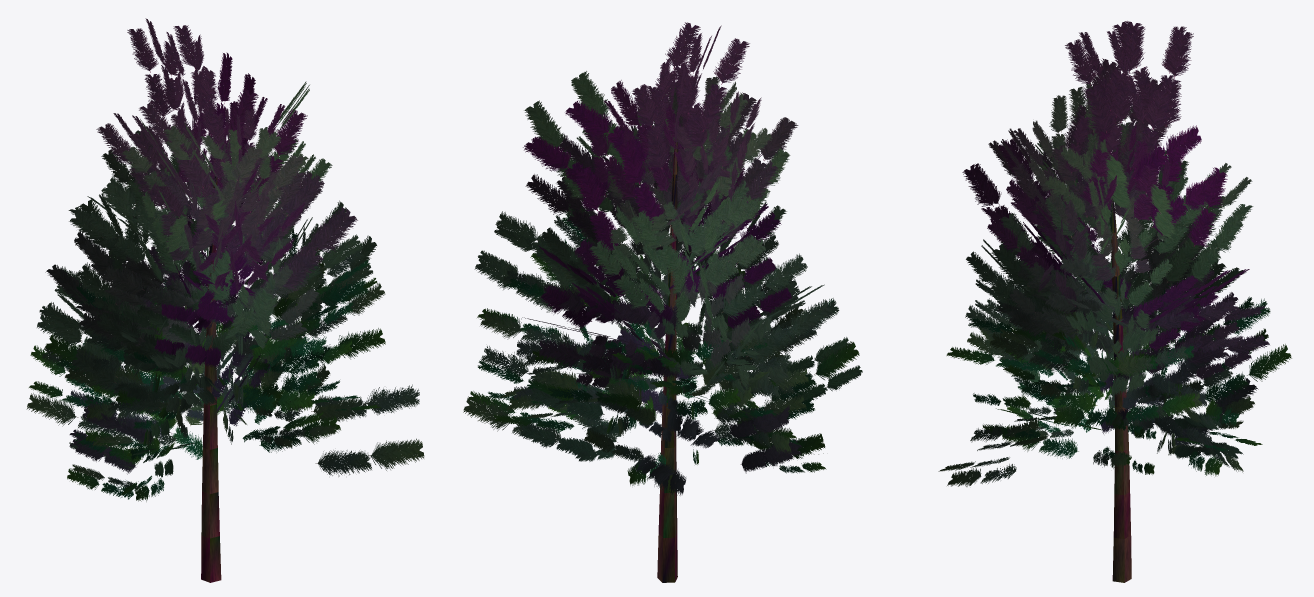
The model's file is nat_pine_c_LOD2.glb.
3 renders of one model, left to right at view 1: azimuth 30°, elevation 25°; view 2: azimuth 150°, elevation 25°; view 3: azimuth 270°, elevation 25°, orthographic. The views are drawn at different scales.
Parts seen in each view (by area): view 1: nat_pine_c_LOD2; view 2: nat_pine_c_LOD2; view 3: nat_pine_c_LOD2.
Part boxes in pixels (x1,y1,x2,y2): nat_pine_c_LOD2: (26,18,424,582); nat_pine_c_LOD2: (463,22,862,582); nat_pine_c_LOD2: (938,21,1291,582).
Bounding box in the file's own units: 12.09 × 16.45 × 10.25.
2 materials, 2 textured.
